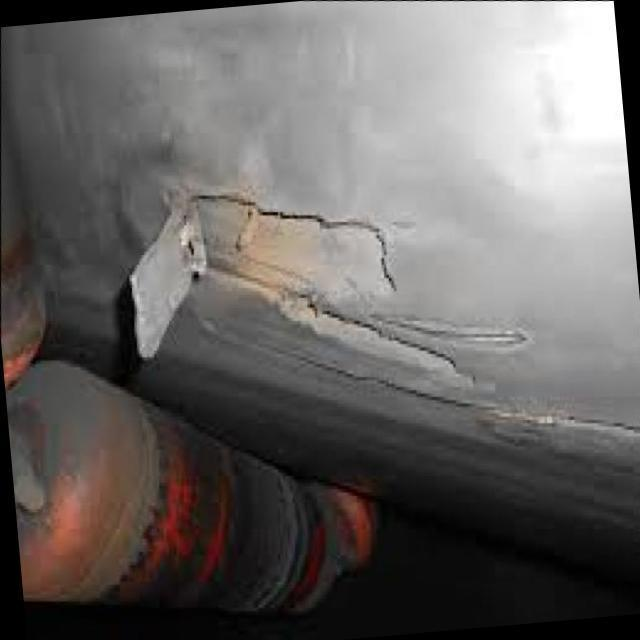Tear: (118, 184, 532, 386)
